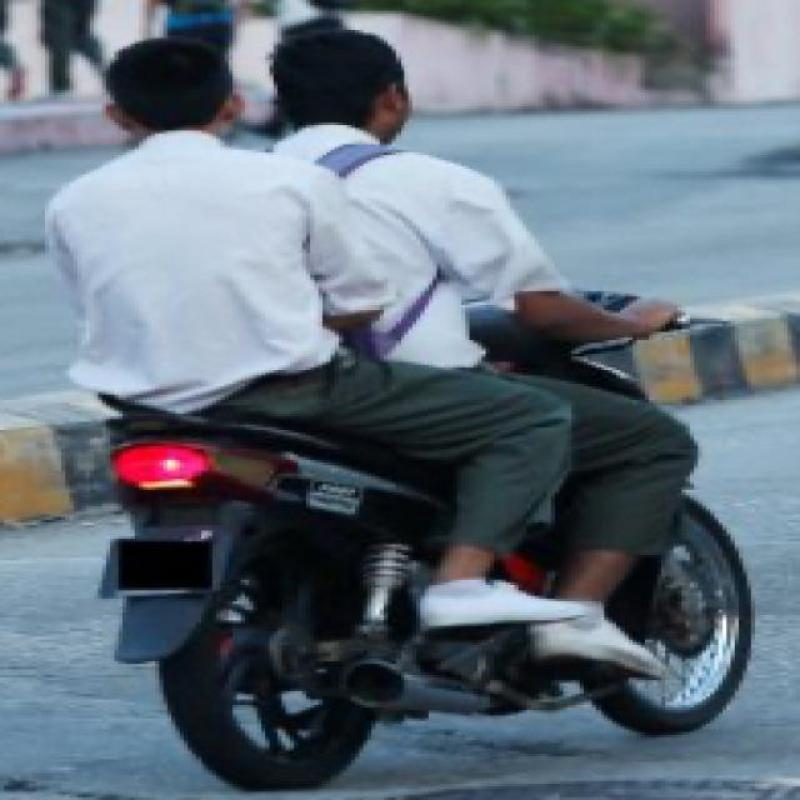nohelmet: (258, 0, 432, 145), (99, 20, 246, 154)
